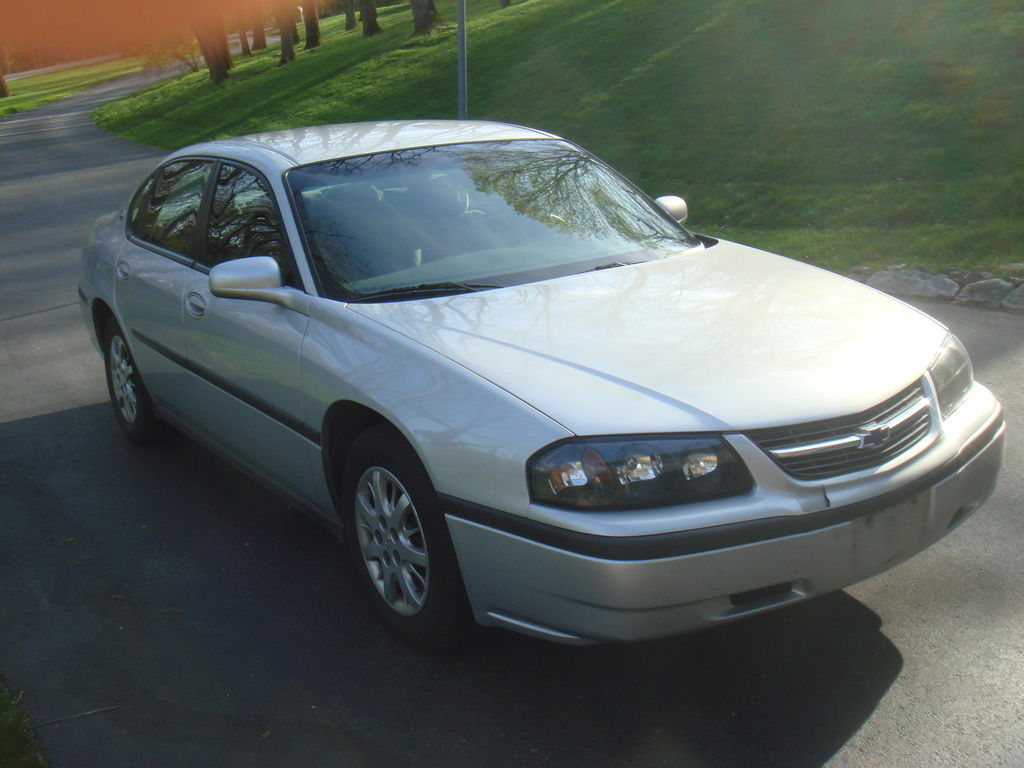Car: (76, 112, 1009, 641)
